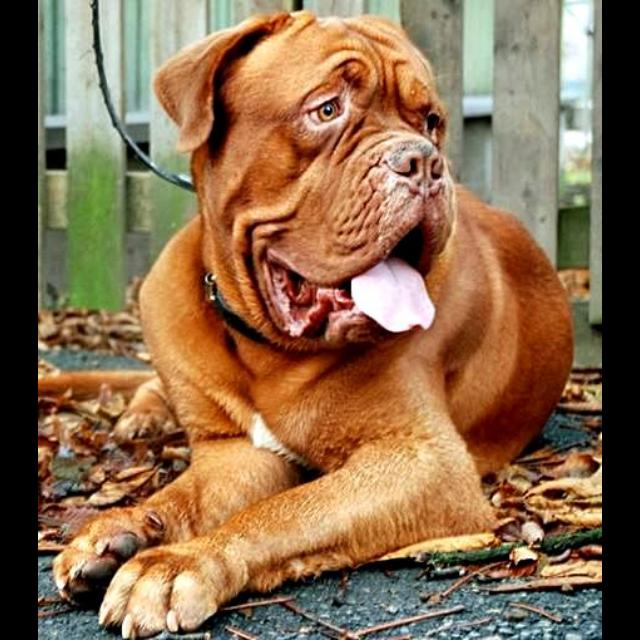dogue_de_bordeaux: (42, 9, 576, 640)
